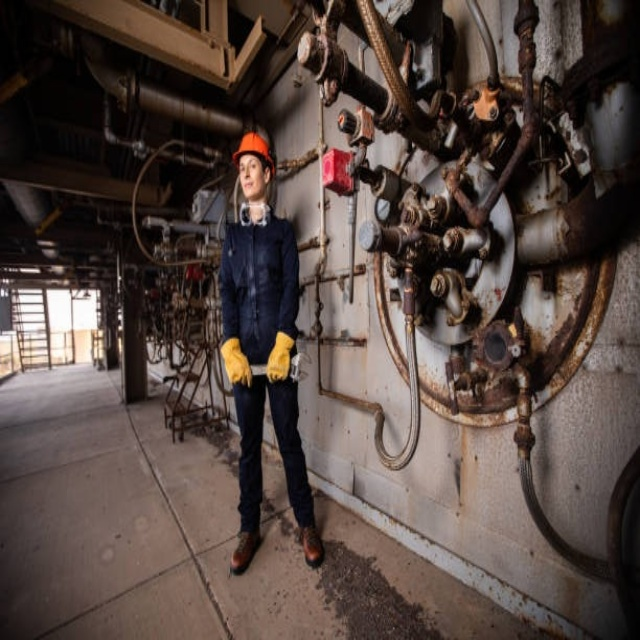Guantes: (220, 337, 252, 387), (266, 331, 295, 382)
Sin_gafas: (241, 155, 258, 176)
Sin_mascara: (241, 177, 256, 196)
